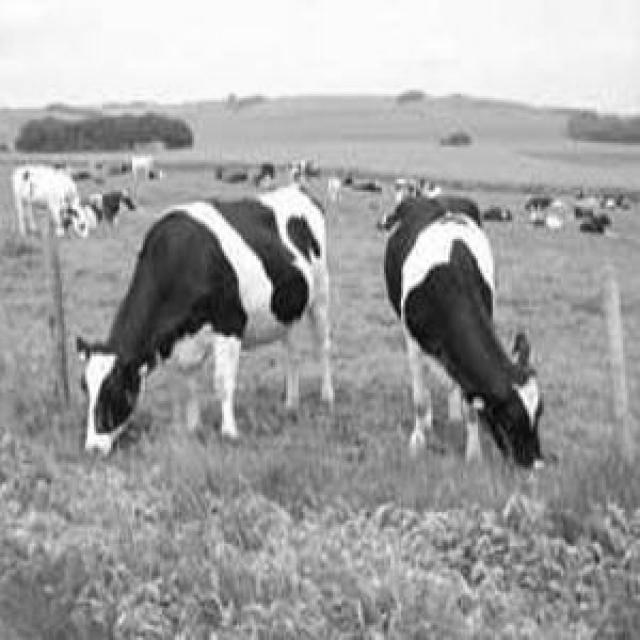cow: (85, 188, 332, 453), (385, 195, 541, 467)
